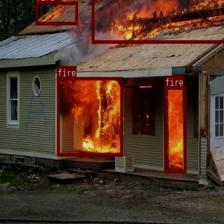fire: (91, 0, 224, 42), (57, 77, 122, 156), (164, 86, 186, 172), (35, 1, 77, 25)
